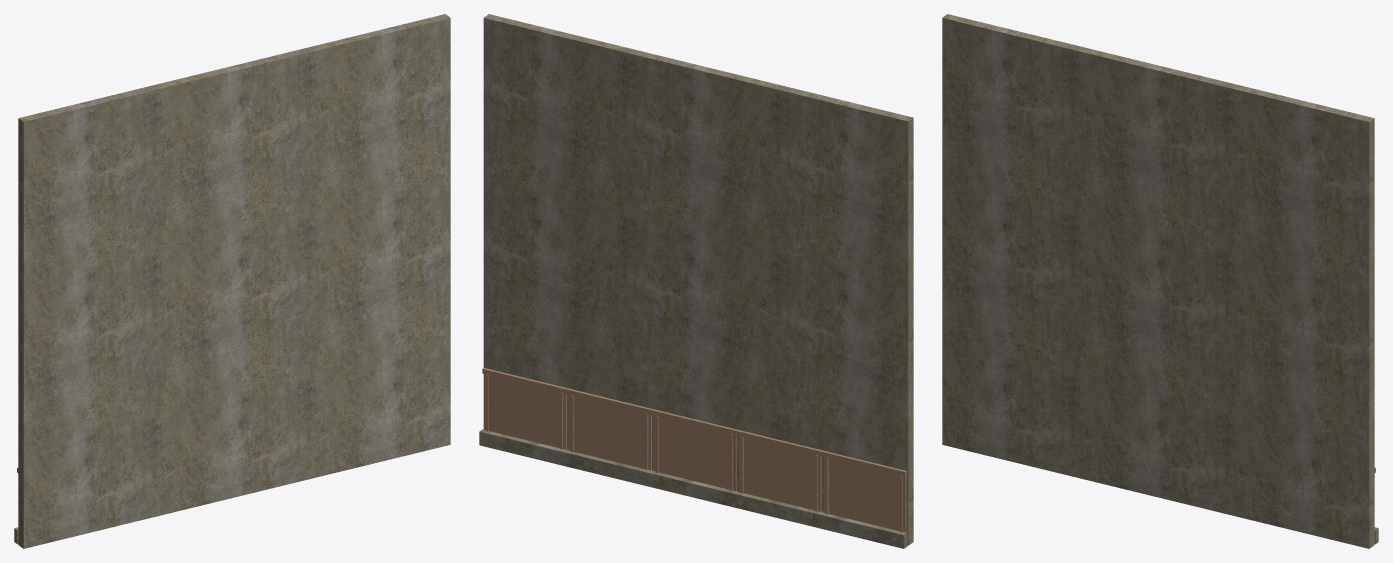
Rendered from in_impbig_wall_01.dae.
3 views of the same model, side by side, from view 1: azimuth 30°, elevation 25°; view 2: azimuth 150°, elevation 25°; view 3: azimuth 330°, elevation 25° (orthographic).
Parts seen in each view (by area): view 1: plaster; view 2: plaster, oak; view 3: plaster.
Part boxes in pixels (x1=…): plaster: x1=14, y1=14, x2=450, y2=548; plaster: x1=479, y1=14, x2=913, y2=548; oak: x1=482, y1=368, x2=906, y2=532; plaster: x1=942, y1=14, x2=1378, y2=548.
Size of what is drawn, in the model's own units: 387 by 14.96 by 370.
